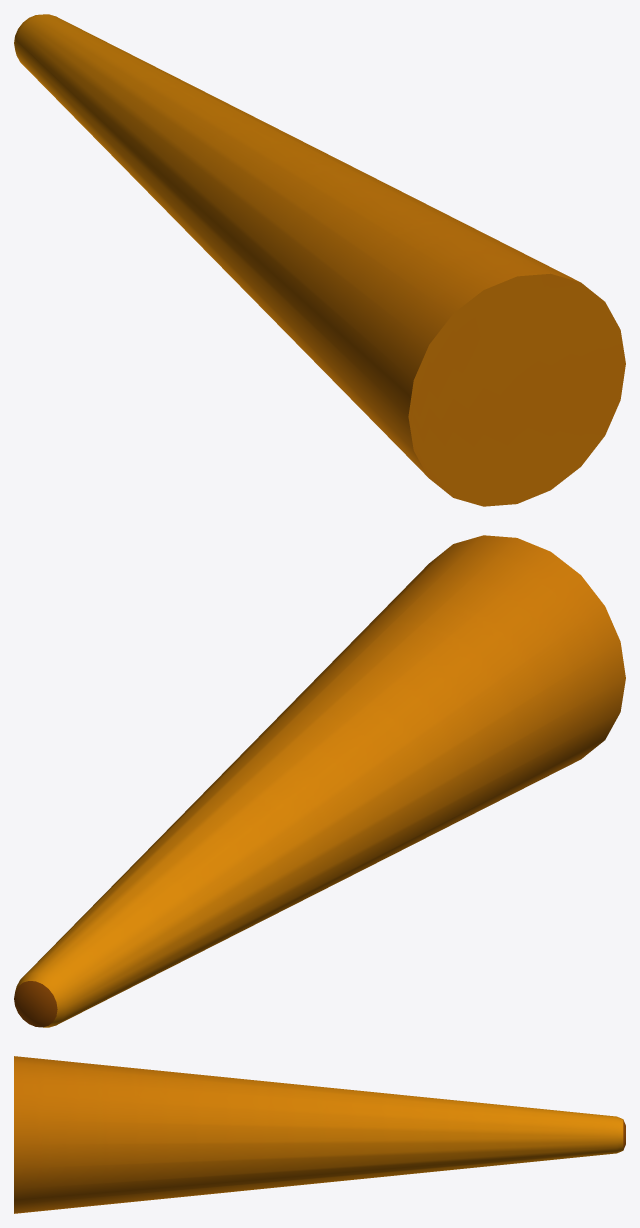
Rendered from carrot2_slices_3.fbx.
The picture shows the model from 3 angles, top to bottom: view 1: azimuth 30°, elevation 25°; view 2: azimuth 150°, elevation 25°; view 3: azimuth 270°, elevation 25°; orthographic projection. The views are drawn at different scales.
Parts seen in each view (by area): view 1: carrot_2_slices.003; view 2: carrot_2_slices.003; view 3: carrot_2_slices.003.
Part boxes in pixels (x1=…): carrot_2_slices.003: x1=14, y1=14, x2=625, y2=506; carrot_2_slices.003: x1=14, y1=535, x2=625, y2=1027; carrot_2_slices.003: x1=14, y1=1056, x2=625, y2=1213.
Size of the model in its own units: 39.17 by 39.17 by 151.
